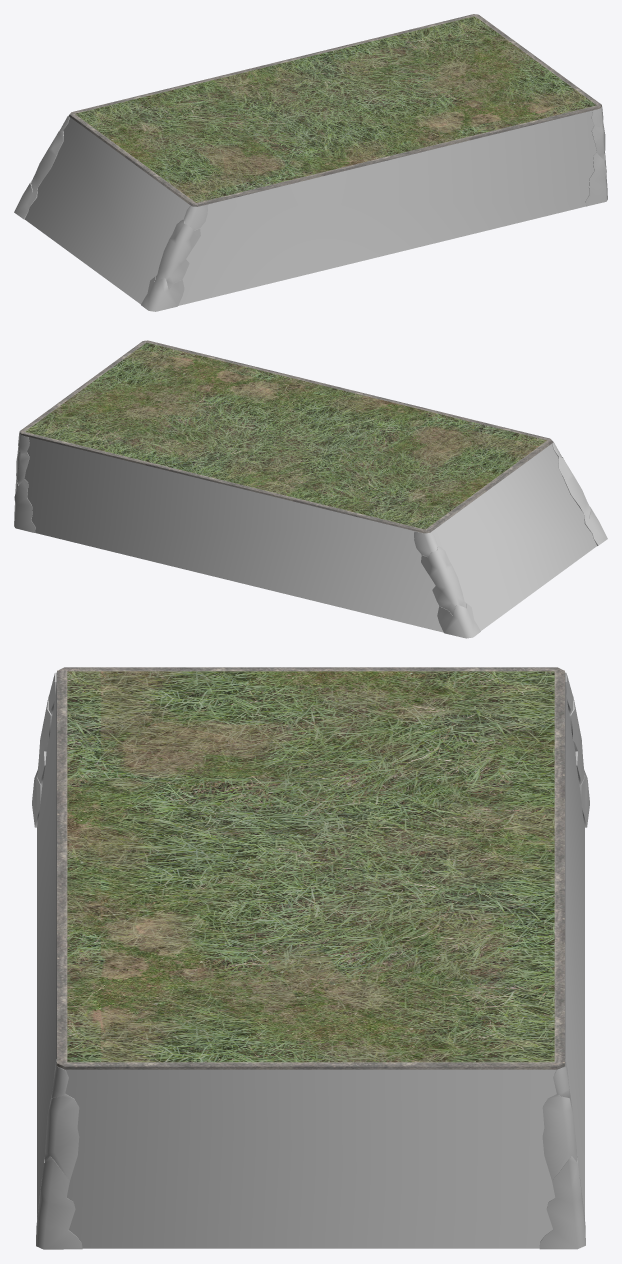
File: JpHouseJ_StoneWall_10a.fbx
3 views of the same model, one above another, from view 1: azimuth 30°, elevation 25°; view 2: azimuth 150°, elevation 25°; view 3: azimuth 270°, elevation 25° (orthographic). The views are drawn at different scales.
Parts seen in each view (by area): view 1: JpHouseJ_StoneWall_10a; view 2: JpHouseJ_StoneWall_10a; view 3: JpHouseJ_StoneWall_10a.
Boxes of the visible parts, x1=… form: JpHouseJ_StoneWall_10a: x1=14, y1=14, x2=607, y2=311; JpHouseJ_StoneWall_10a: x1=14, y1=340, x2=607, y2=638; JpHouseJ_StoneWall_10a: x1=32, y1=667, x2=589, y2=1249.
Bounding box in the file's own units: 21.16 × 4.03 × 11.11.
